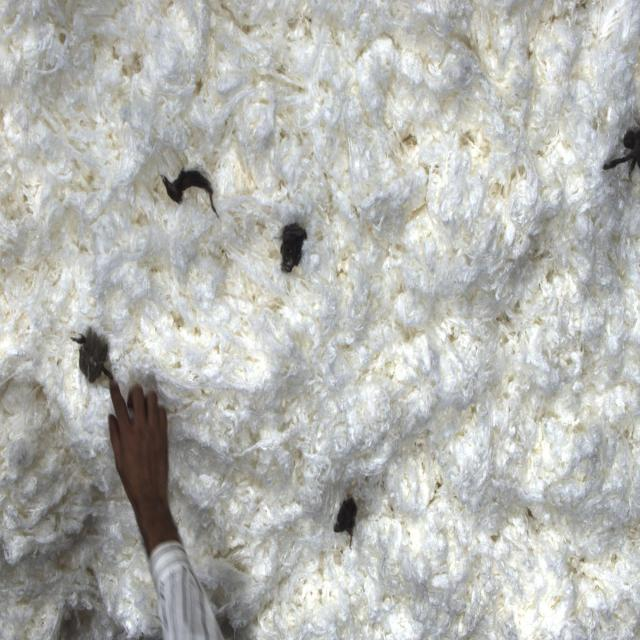dust: (66, 314, 121, 391), (156, 166, 222, 221), (601, 118, 640, 184), (274, 221, 310, 280), (328, 494, 364, 549)
